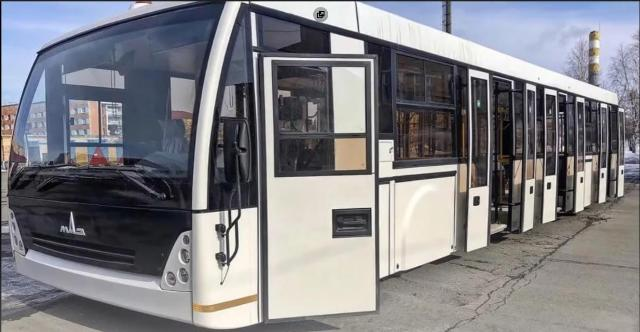bus: (6, 1, 628, 331)
